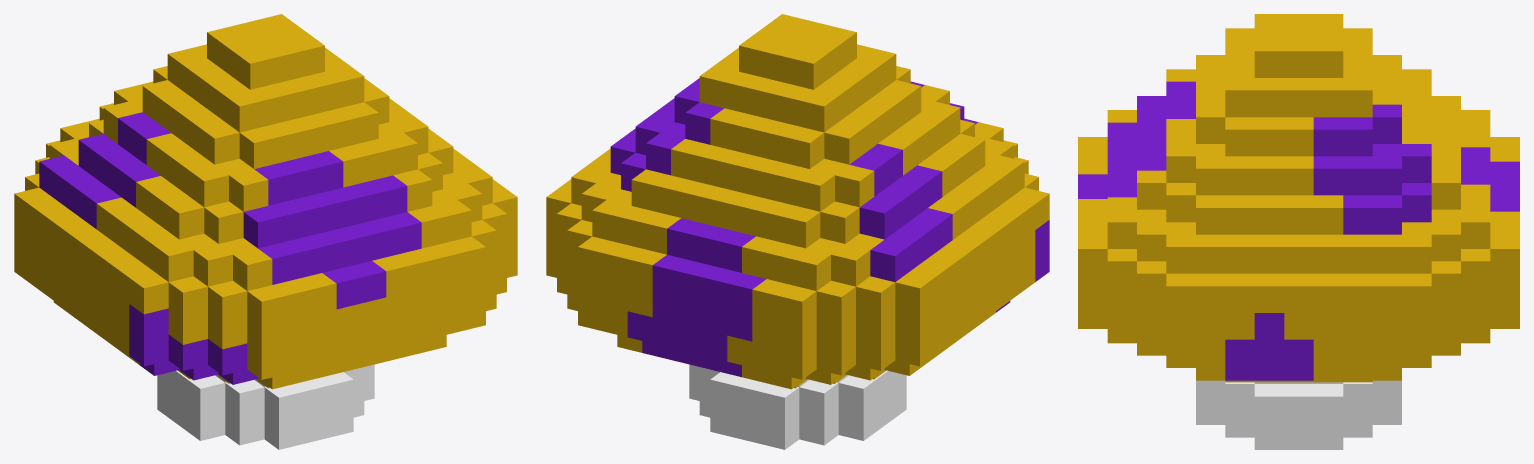
The model's file is blast mushroom.obj.
3 renders of one model, left to right at view 1: azimuth 30°, elevation 25°; view 2: azimuth 150°, elevation 25°; view 3: azimuth 270°, elevation 25°, orthographic. The views are drawn at different scales.
Size of the model in its own units: 1.5 by 1.4 by 1.5.
1 material, 1 textured.
